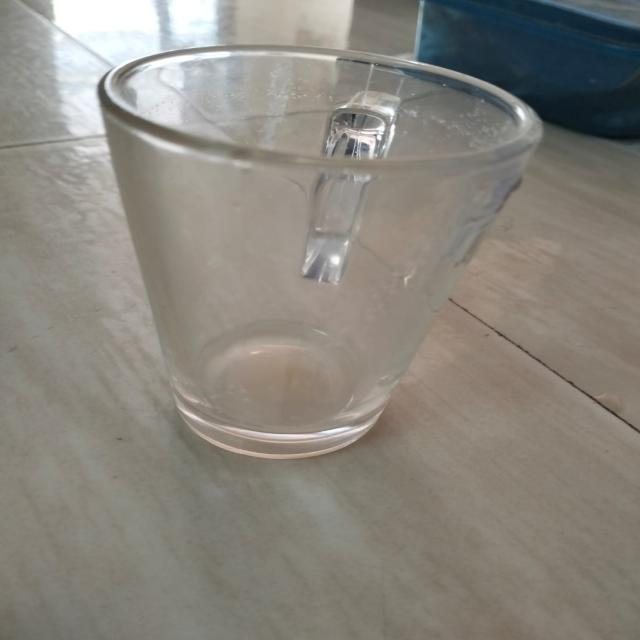glass-VX4N: (97, 47, 543, 462)
